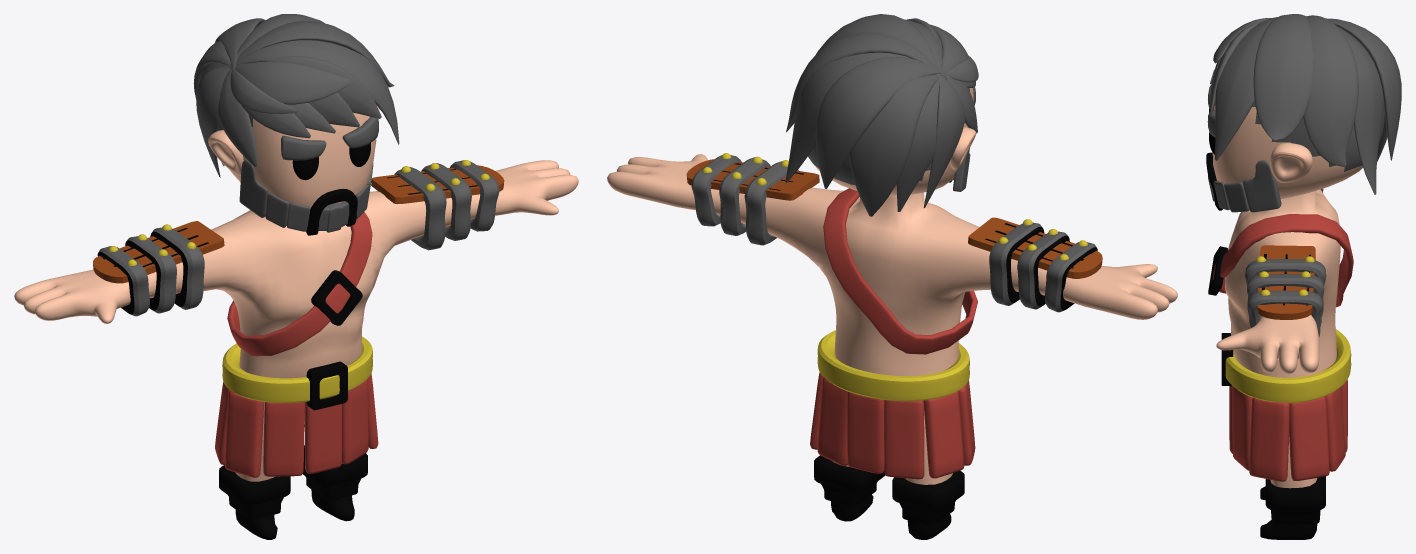
File: CaballeroSinNombre.fbx
3 renders of one model, left to right at view 1: azimuth 30°, elevation 25°; view 2: azimuth 150°, elevation 25°; view 3: azimuth 270°, elevation 25°, orthographic.
Visible parts, largest first — view 1: Cube.002, NurbsPath.008, Cube.004, Cube, Torus.001, Torus.002, BezierCircle, Torus.005, Cube.022, Cube.005, Cube.021, Cube.003 (+8 smaller); view 2: Cube.002, NurbsPath.008, Cube.004, BezierCircle, Torus.001, Torus.002, Torus.005, Cube.022, Cube.005, Cube.021, Cube.003, Cube; view 3: NurbsPath.008, Cube.002, Cube.004, Cube, Torus.002, Torus.005, BezierCircle, Cube.021, Cube.003, Cube.008, Cube.020, Cube.019 (+4 smaller).
Boxes of the visible parts, x1,y1,x2,y2 form: Cube.002: (14, 160, 578, 539); NurbsPath.008: (193, 14, 399, 177); Cube.004: (215, 373, 378, 477); Cube: (218, 62, 376, 208); Torus.001: (97, 224, 204, 316); Torus.002: (394, 160, 499, 250); BezierCircle: (227, 212, 372, 356); Torus.005: (222, 336, 372, 403); Cube.022: (219, 465, 290, 518); Cube.005: (93, 221, 224, 283); Cube.021: (302, 445, 367, 500); Cube.003: (371, 165, 504, 204); Cube.002: (607, 154, 1177, 539); NurbsPath.008: (785, 14, 978, 216); Cube.004: (810, 372, 975, 479); BezierCircle: (823, 188, 977, 354); Torus.001: (989, 219, 1097, 312); Torus.002: (691, 153, 798, 245); Torus.005: (817, 330, 969, 401); Cube.022: (892, 471, 964, 524); Cube.005: (968, 217, 1102, 278); Cube.021: (814, 455, 885, 505); Cube.003: (686, 159, 819, 200); Cube: (808, 47, 973, 195); NurbsPath.008: (1210, 14, 1401, 194); Cube.002: (1216, 189, 1340, 539); Cube.004: (1229, 379, 1347, 481); Cube: (1212, 102, 1384, 198); Torus.002: (1245, 256, 1326, 337); Torus.005: (1225, 329, 1351, 403); BezierCircle: (1212, 214, 1353, 307); Cube.021: (1265, 476, 1325, 524); Cube.003: (1257, 245, 1315, 319); Cube.008: (1270, 143, 1312, 182); Cube.020: (1243, 160, 1281, 212); Cube.019: (1224, 182, 1249, 212).
Size of the model in its own units: 203 by 176 by 62.64.
